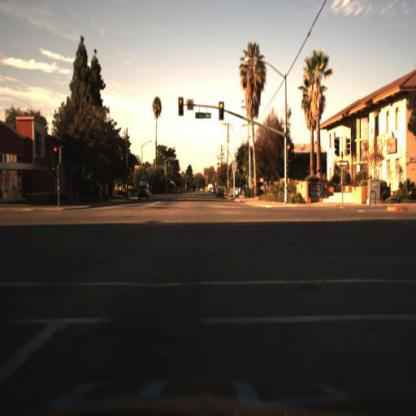car: (137, 183, 151, 203)
trafficLight-Red: (219, 101, 227, 122), (285, 142, 292, 161)
trafficLight-RedLeft: (52, 143, 61, 168), (176, 96, 184, 123)
